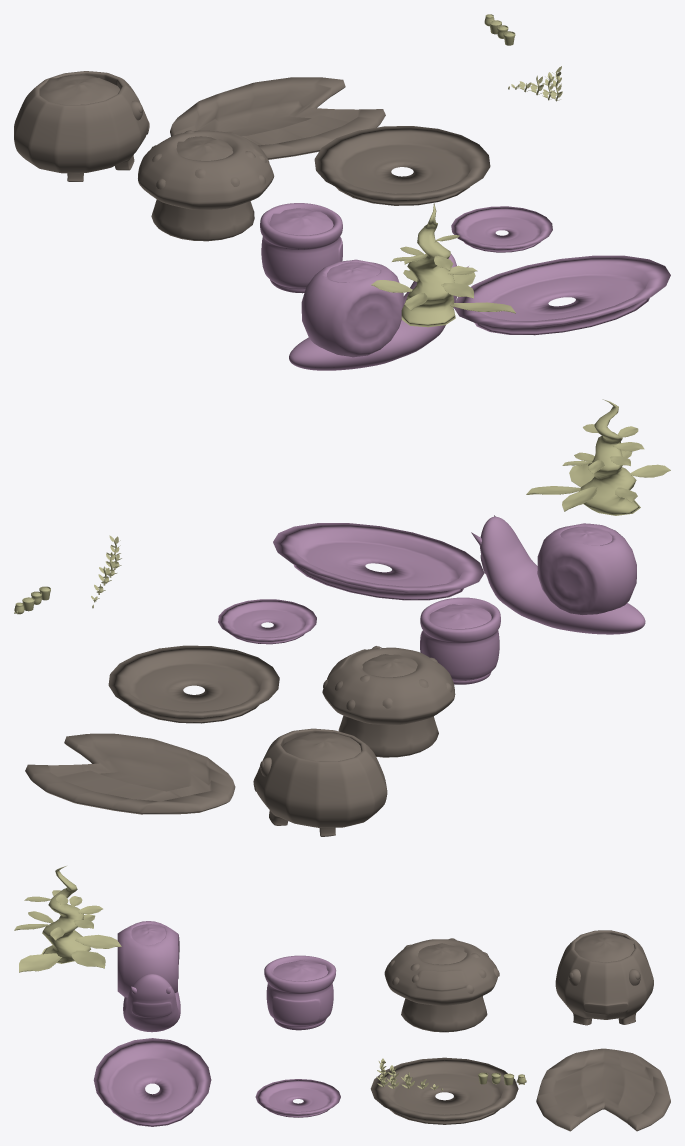
Rendered from Models_ProjectGrowth_1.fbx.
The picture shows the model from 3 angles, top to bottom: view 1: azimuth 30°, elevation 25°; view 2: azimuth 150°, elevation 25°; view 3: azimuth 270°, elevation 25°; orthographic projection. The views are drawn at different scales.
Parts seen in each view (by area): view 1: pTorus5, pTorus4, polySurface61, pDisc22, polySurface68, polySurface105, pCone2, pTorus1, pTorus3, polySurface106, polySurface66, polySurface97 (+2 smaller); view 2: pDisc22, pTorus5, pTorus4, polySurface61, polySurface68, polySurface105, polySurface106, pCone2, pTorus1, pTorus3, polySurface66, polySurface97 (+2 smaller); view 3: pDisc22, pTorus5, polySurface61, pTorus4, polySurface68, pCone2, pTorus1, polySurface105, polySurface106, pTorus3, polySurface66, polySurface97 (+2 smaller).
Part boxes in pixels (left/top/right/bottom): pTorus5: left=454, top=255, right=670, bottom=335; pTorus4: left=314, top=126, right=490, bottom=205; polySurface61: left=138, top=130, right=274, bottom=241; pDisc22: left=170, top=77, right=385, bottom=159; polySurface68: left=14, top=71, right=149, bottom=181; polySurface105: left=301, top=259, right=403, bottom=357; pCone2: left=371, top=203, right=515, bottom=327; pTorus1: left=260, top=203, right=342, bottom=293; pTorus3: left=451, top=206, right=552, bottom=252; polySurface106: left=289, top=253, right=456, bottom=370; polySurface66: left=40, top=74, right=120, bottom=104; polySurface97: left=269, top=208, right=333, bottom=235; pDisc22: left=25, top=733, right=235, bottom=814; pTorus5: left=273, top=523, right=484, bottom=600; pTorus4: left=108, top=645, right=279, bottom=723; polySurface61: left=322, top=647, right=455, bottom=757; polySurface68: left=253, top=728, right=387, bottom=836; polySurface105: left=537, top=523, right=636, bottom=614; polySurface106: left=479, top=516, right=645, bottom=634; pCone2: left=526, top=399, right=670, bottom=515; pTorus1: left=420, top=597, right=500, bottom=684; pTorus3: left=218, top=599, right=316, bottom=644; polySurface66: left=282, top=732, right=361, bottom=761; polySurface97: left=429, top=604, right=491, bottom=628; pDisc22: left=536, top=1048, right=670, bottom=1131; pTorus5: left=93, top=1038, right=211, bottom=1126; polySurface61: left=384, top=939, right=497, bottom=1032; pTorus4: left=370, top=1057, right=518, bottom=1124; polySurface68: left=555, top=930, right=653, bottom=1025; pCone2: left=14, top=866, right=121, bottom=972; pTorus1: left=264, top=955, right=336, bottom=1030; polySurface105: left=117, top=921, right=179, bottom=997; polySurface106: left=123, top=974, right=180, bottom=1032; pTorus3: left=255, top=1079, right=340, bottom=1117; polySurface66: left=574, top=933, right=634, bottom=962; polySurface97: left=273, top=960, right=328, bottom=981.
Bounding box in the file's own units: 6.72 × 2.97 × 10.76.
